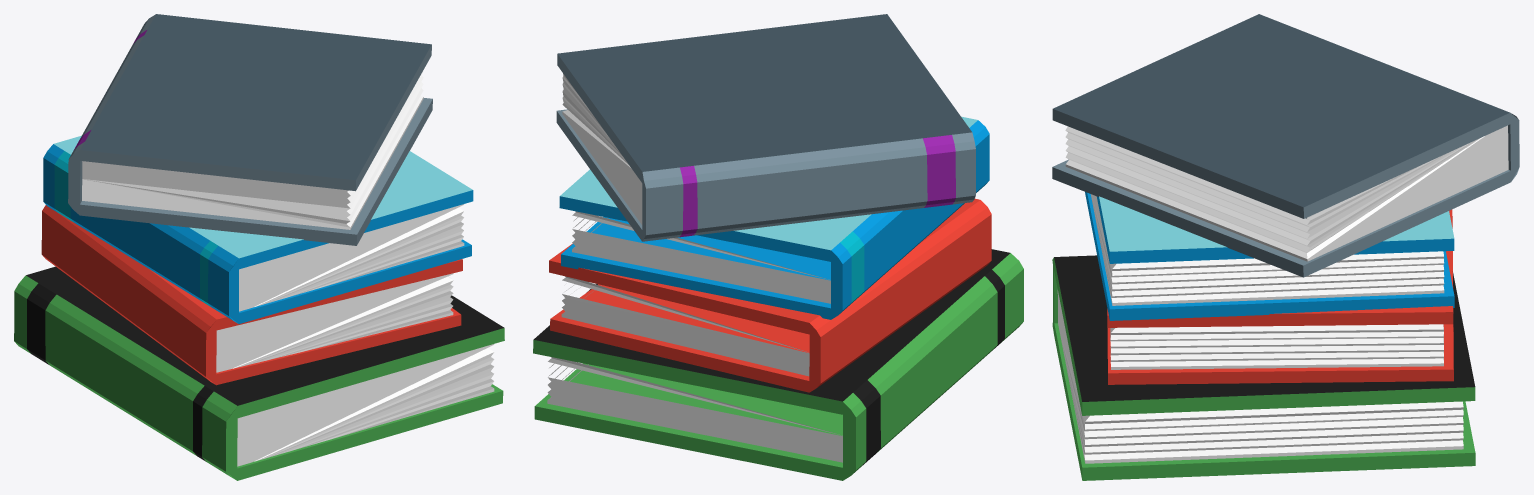
File: livres2.glb
The picture shows the model from 3 angles, left to right: view 1: azimuth 30°, elevation 25°; view 2: azimuth 150°, elevation 25°; view 3: azimuth 270°, elevation 25°; orthographic projection. The views are drawn at different scales.
Parts seen in each view (by area): view 1: Books; view 2: Books; view 3: Books.
Part boxes in pixels (box(x1,y1,x2,y2)): Books: box(14, 14, 504, 480); Books: box(533, 14, 1023, 480); Books: box(1052, 14, 1519, 480).
Size of the model in its own units: 3.17 by 2.2 by 3.18.
